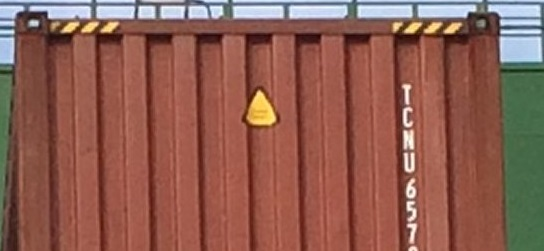container_no_door: (13, 10, 506, 251)
